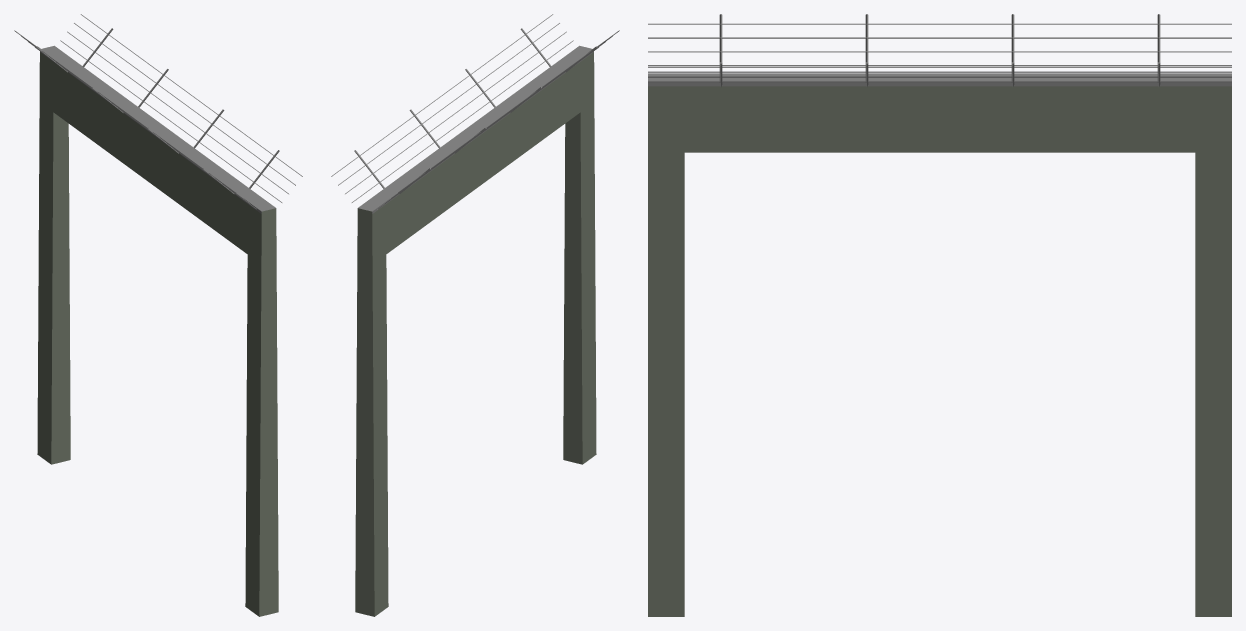
Rendered from Wall_04.fbx.
3 views of the same model, side by side, from view 1: azimuth 30°, elevation 25°; view 2: azimuth 150°, elevation 25°; view 3: azimuth 270°, elevation 25° (orthographic). The views are drawn at different scales.
Parts seen in each view (by area): view 1: Walls_04; view 2: Walls_04; view 3: Walls_04.
Boxes of the visible parts, x1,y1,x2,y2 form: Walls_04: (14, 14, 302, 616); Walls_04: (331, 14, 619, 616); Walls_04: (648, 14, 1231, 616).
Bounding box in the file's own units: 79.96 × 433 × 400.
Materials: 1 (1 with a texture image).
